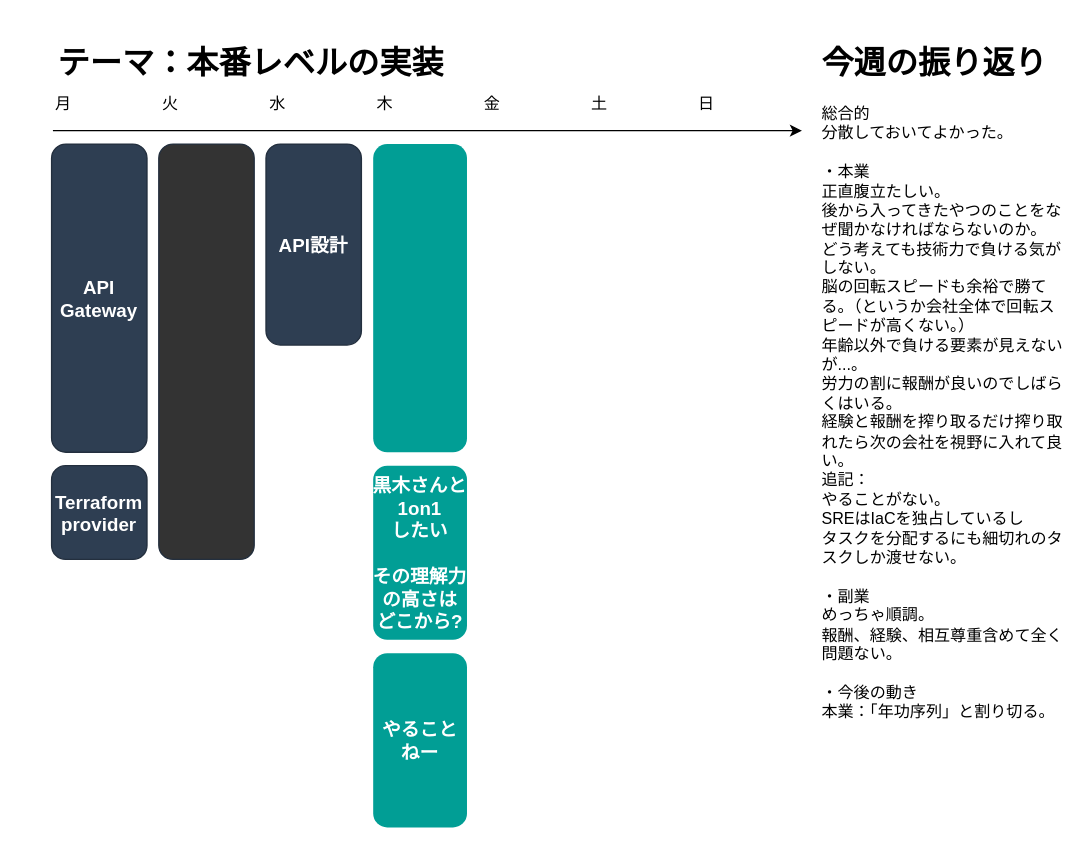
The diagram is 1092 pixels wide and 850 high, and some of its shapes have lost their labels. The shapes that lost their labels are listed below. From the top down, each one's centre as x and y in pixels, then its label:
At [419,297]: "印象が 最悪の相手 から ただただ 気に入られる ためだけに 動く方法 すごいね！".
At [205,351]: "副業 継続！".
